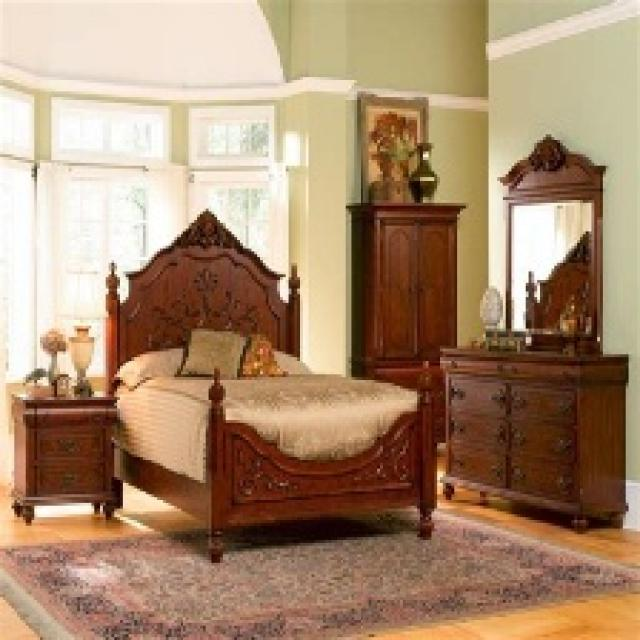Bed: (103, 206, 437, 563)
